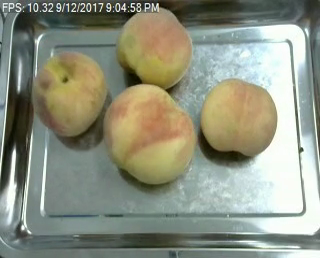Peach: (103, 83, 194, 186), (31, 51, 108, 138), (116, 7, 190, 89), (199, 80, 276, 157)
